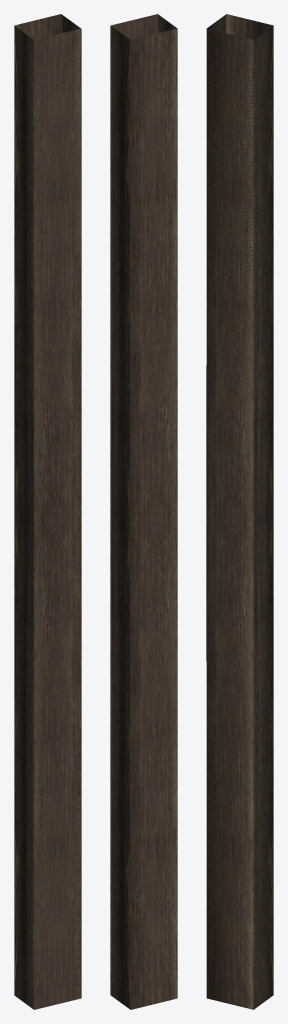
File: SC105Jjy_mugun.FBX
3 views of the same model, side by side, from view 1: azimuth 30°, elevation 25°; view 2: azimuth 210°, elevation 25°; view 3: azimuth 330°, elevation 25° (orthographic).
Visible parts, largest first — view 1: SC105Jjy_mugun; view 2: SC105Jjy_mugun; view 3: SC105Jjy_mugun.
Boxes of the visible parts, x1,y1,x2,y2 form: SC105Jjy_mugun: (14, 14, 81, 1009); SC105Jjy_mugun: (110, 14, 177, 1009); SC105Jjy_mugun: (206, 14, 273, 1009).
Size of the model in its own units: 0.3096 by 6.01 by 0.2237.
